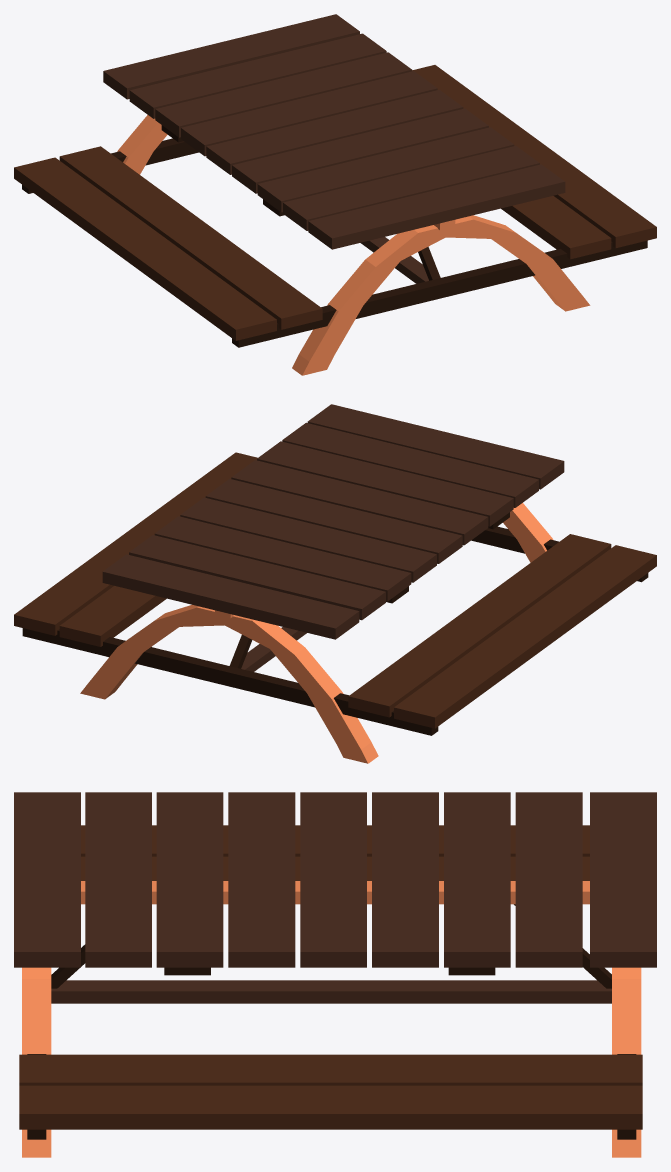
File: Table Pique Nique (1).FBX
3 views of the same model, one above another, from view 1: azimuth 30°, elevation 25°; view 2: azimuth 150°, elevation 25°; view 3: azimuth 270°, elevation 25° (orthographic). The views are drawn at different scales.
Visible parts, largest first — view 1: Box001; view 2: Box001; view 3: Box001.
Part boxes in pixels (x1,y1,x2,y2): Box001: [14, 14, 656, 375]; Box001: [14, 404, 656, 763]; Box001: [14, 792, 656, 1157].
Bounding box in the file's own units: 54.11 × 16.3 × 50.94.
